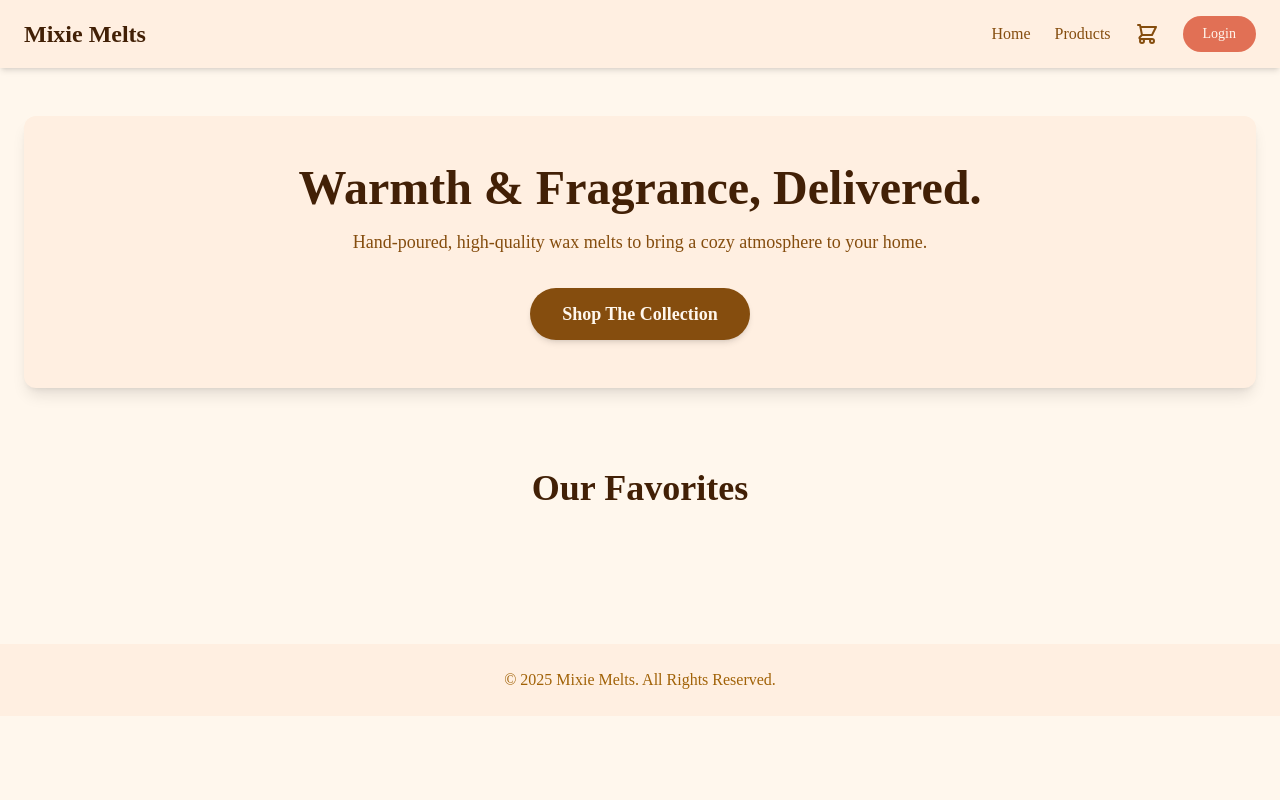
Test: Authentication and Authorization › should allow a user to log in and see account details
This screenshot has width=1280, height=800.
Expected: the text "Logout" is not shown
Navigate to login page
Click the button "Login": coordinates (1219, 34) [1182,16,1256,52]
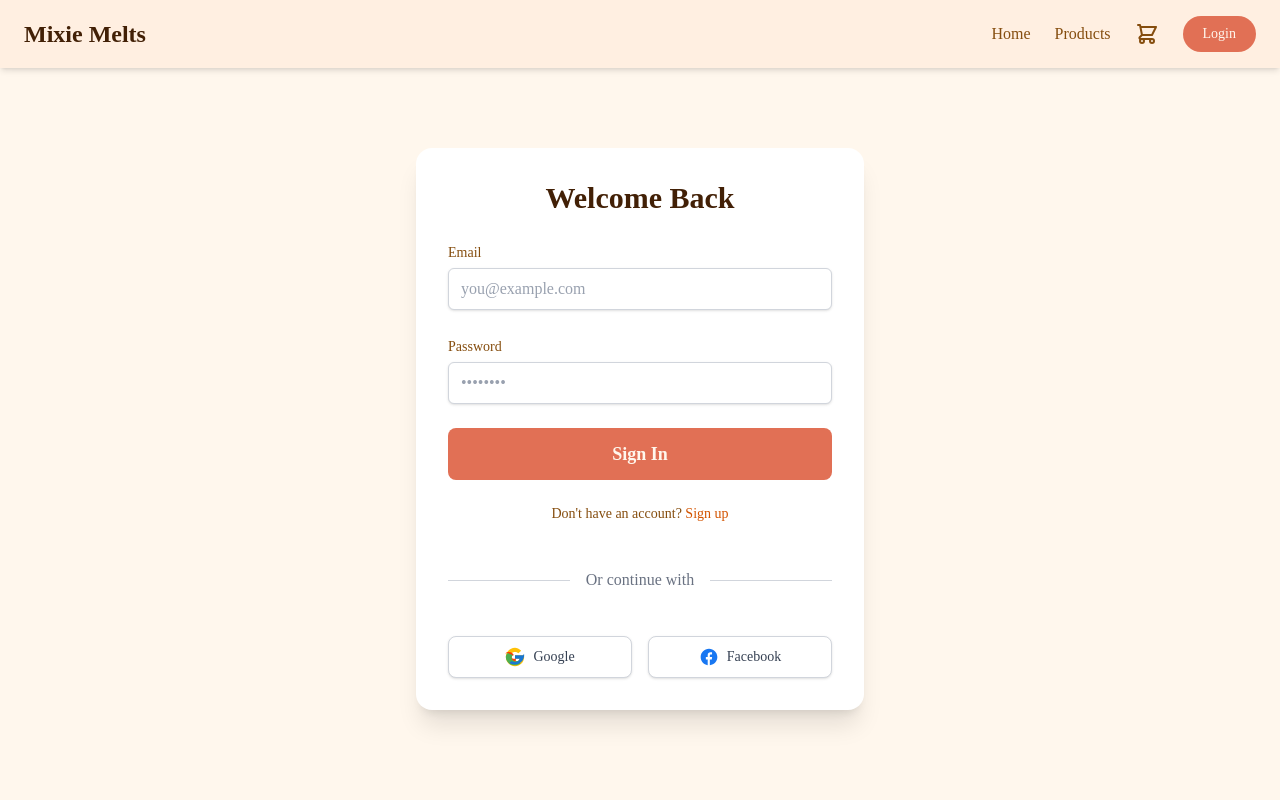
Now the field labelled "Email" is shown
Fill and submit login form
In the field labelled "Email": coordinates (640, 289) [448,268,832,310], type "user@test.com"
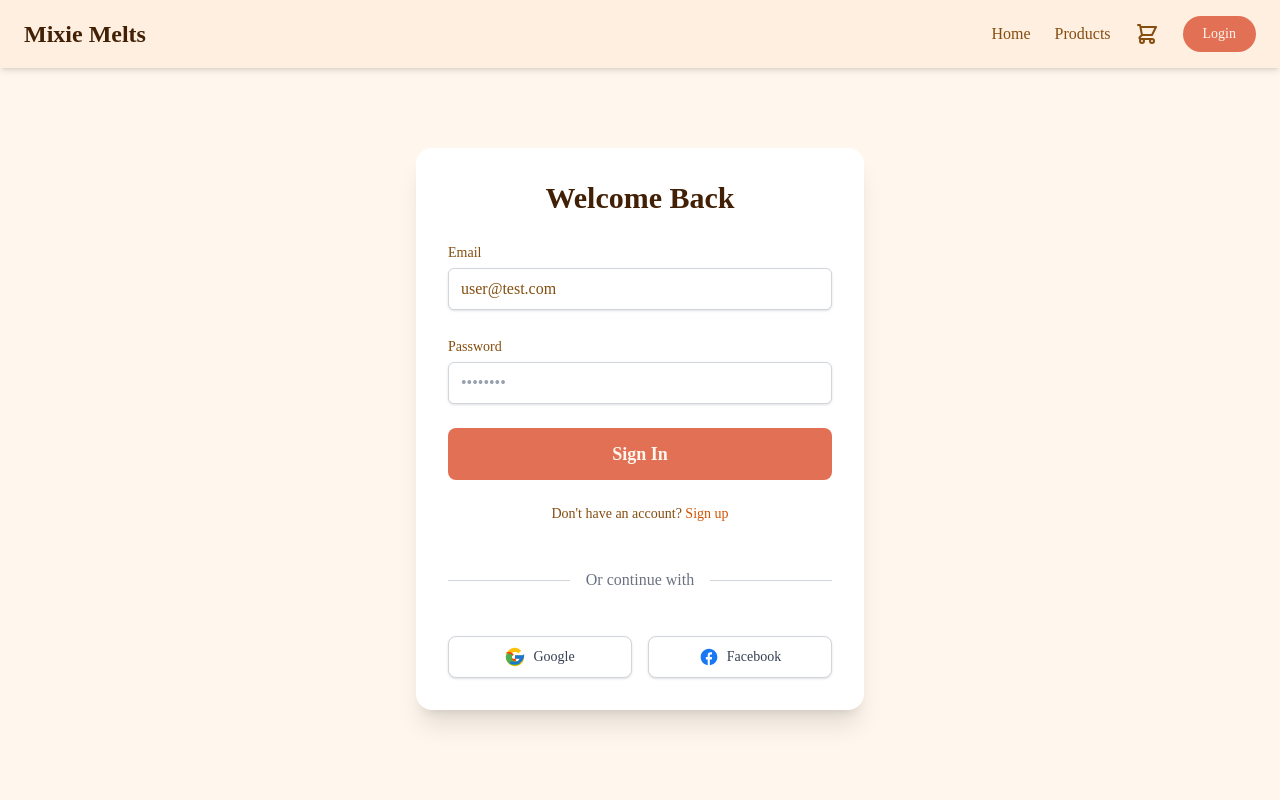
In the password field labelled "Password": coordinates (640, 383) [448,362,832,404], type "password"
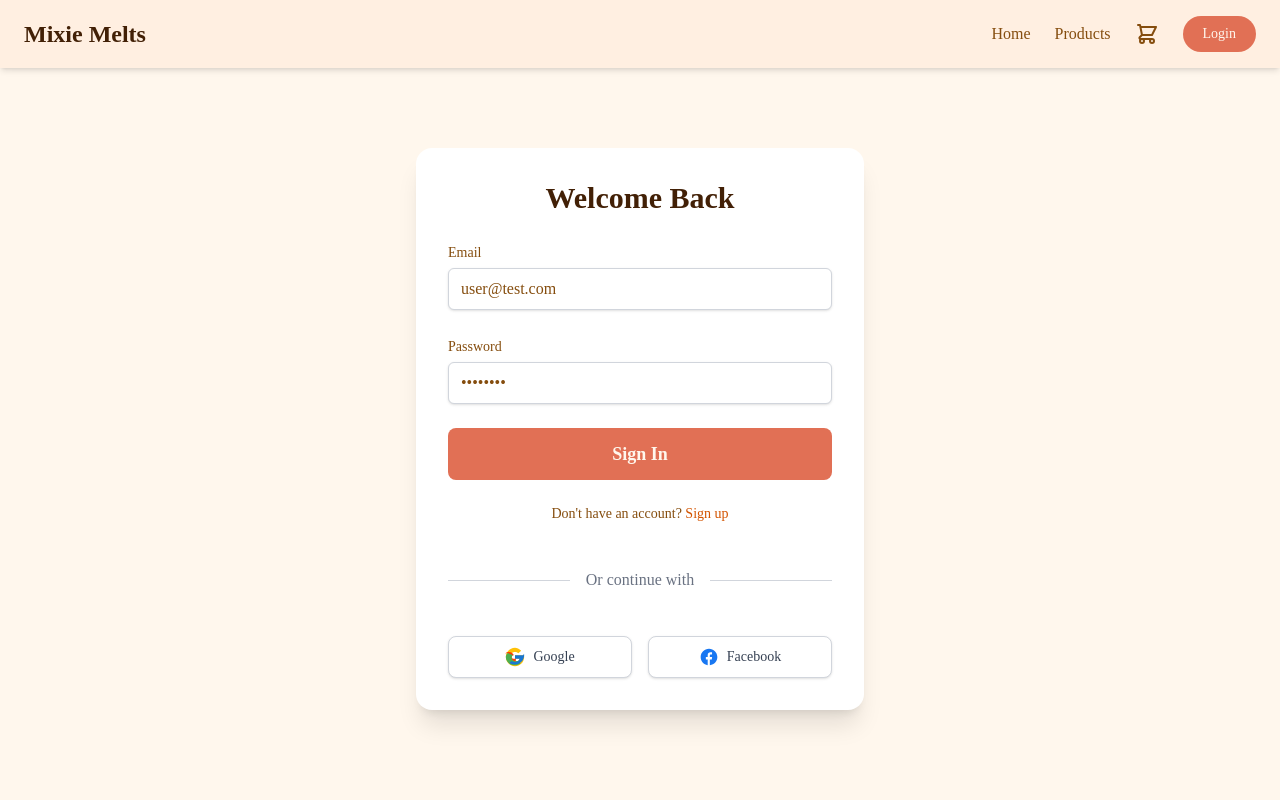
Click the button "Sign In": coordinates (640, 454) [448,428,832,480]
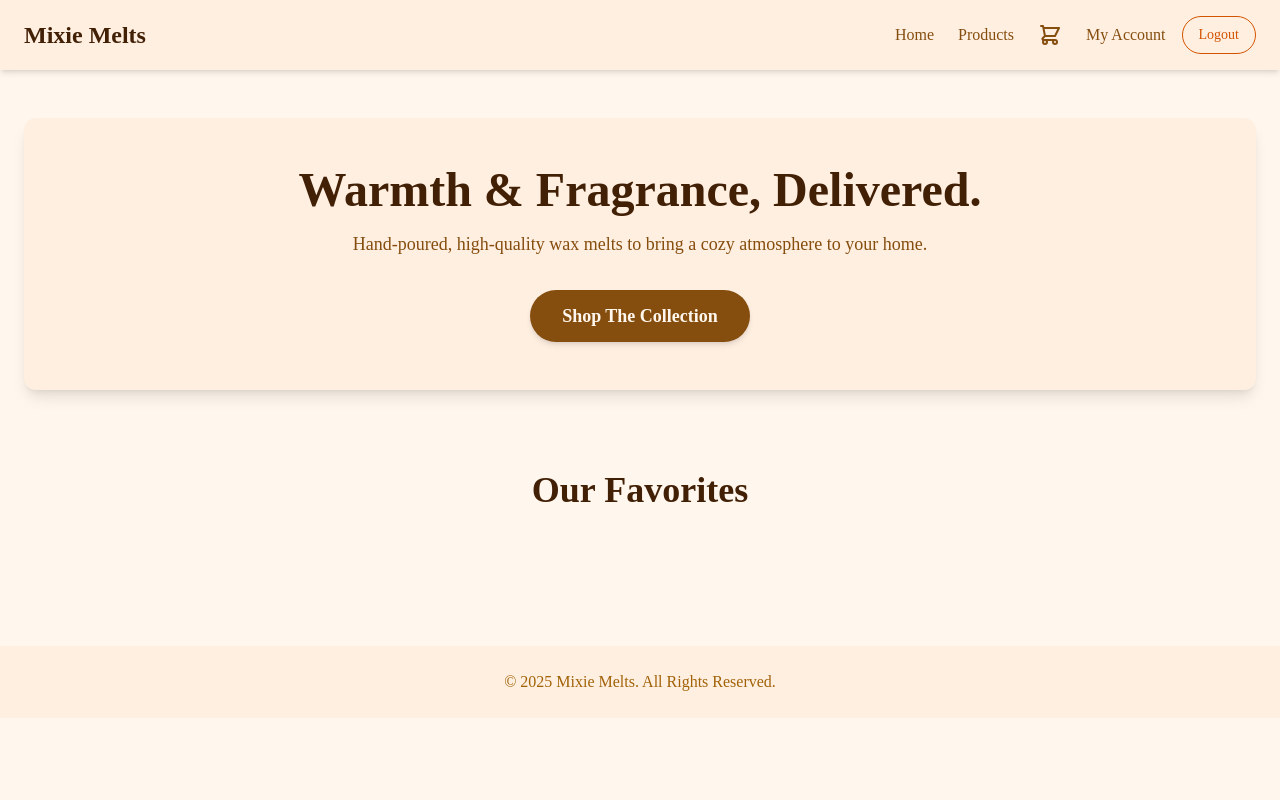
Now the link "My Account" is shown, box [1086,23,1166,47]
Click the button "Logout": coordinates (1219, 35) [1182,16,1256,54]
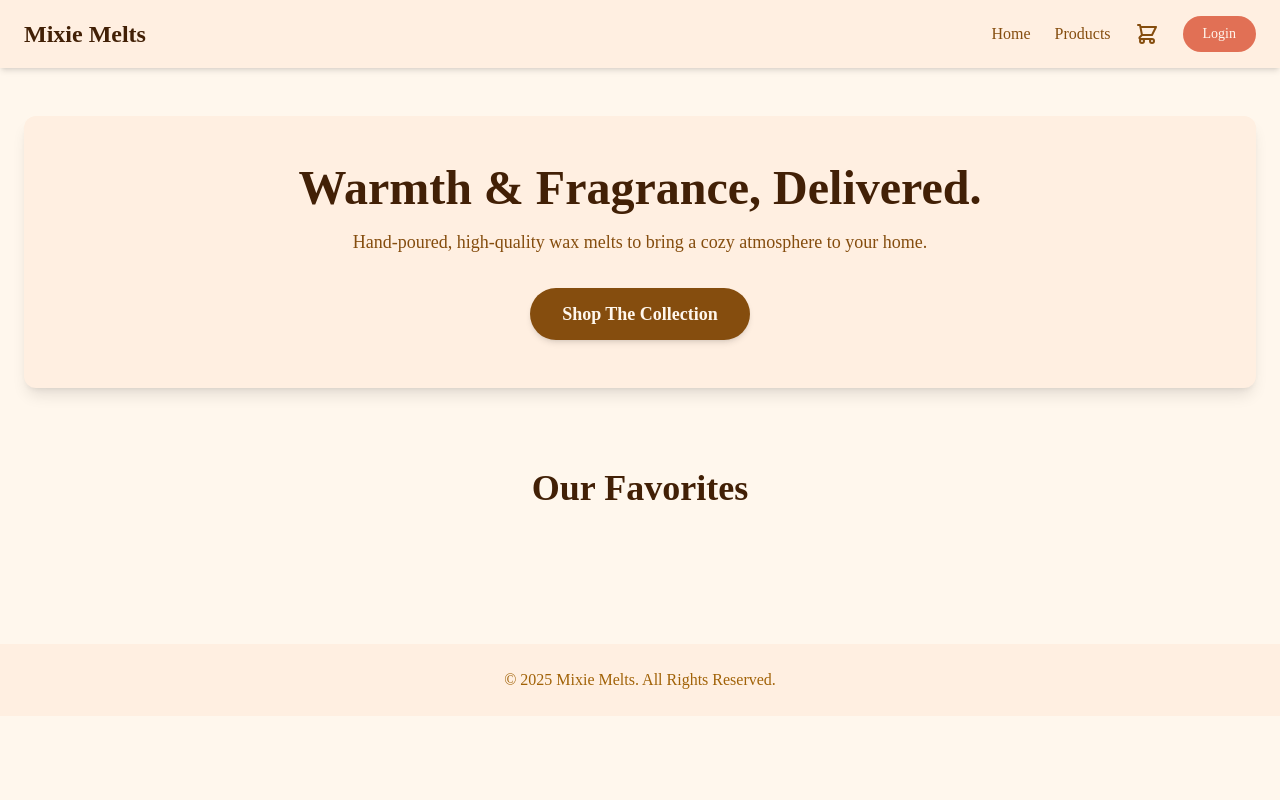
Now the button "Login" is shown, box [1182,16,1256,52]
Now the button "Logout" is gone
